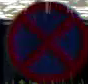No waiting: (4, 0, 86, 83)
